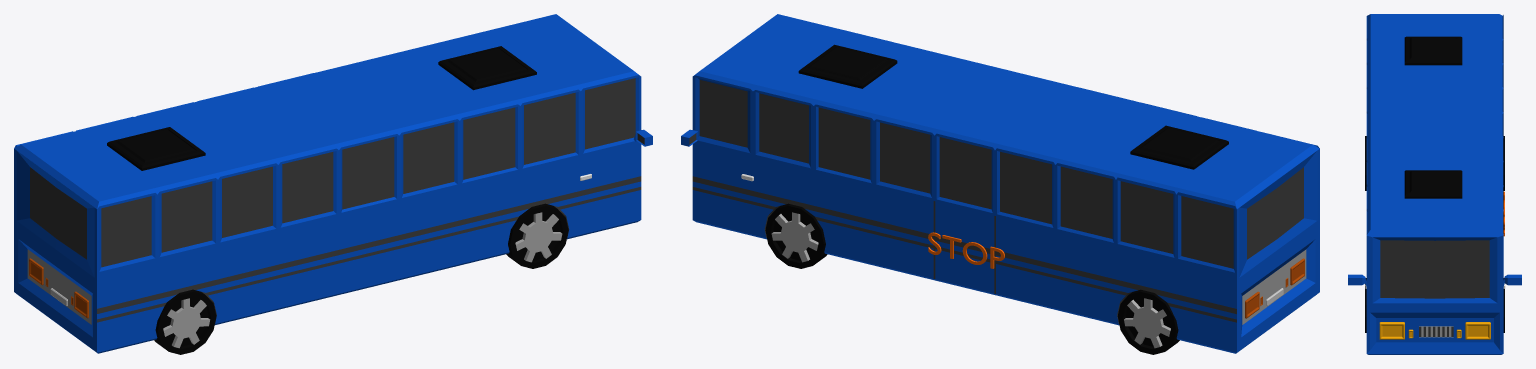
File: fl_wheel_5.glb
The picture shows the model from 3 angles, left to right: view 1: azimuth 30°, elevation 25°; view 2: azimuth 150°, elevation 25°; view 3: azimuth 270°, elevation 25°; orthographic projection. The views are drawn at different scales.
Parts seen in each view (by area): view 1: FL WHEEL.009_BODY.020_0; view 2: FL WHEEL.009_BODY.020_0; view 3: FL WHEEL.009_BODY.020_0.
Boxes of the visible parts, left/top/right/bottom form: FL WHEEL.009_BODY.020_0: left=14, top=14, right=652, bottom=354; FL WHEEL.009_BODY.020_0: left=681, top=14, right=1319, bottom=354; FL WHEEL.009_BODY.020_0: left=1348, top=14, right=1521, bottom=354.
Size of the model in its own units: 1.35 by 0.4152 by 0.4513.
1 material, 1 textured.
